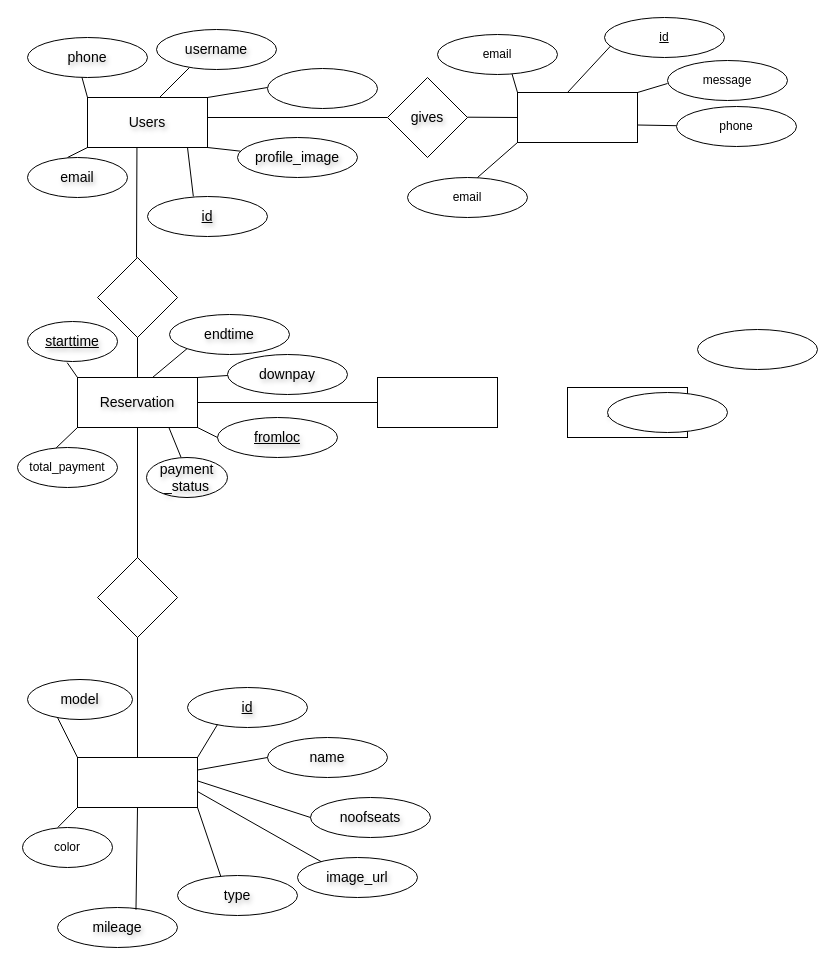
Some shapes in this 835 by 965 pixel diagram are drawn without their labels. Each missing label, with the box of its shape:
admin uname: (606, 392, 728, 432)
admin_id: (696, 328, 818, 370)
booking_count: (266, 68, 378, 108)
Car: (76, 756, 198, 808)
Car Category: (376, 376, 498, 428)
Feedback: (516, 92, 638, 142)
makes: (96, 256, 178, 338)
reserves: (96, 556, 178, 638)
